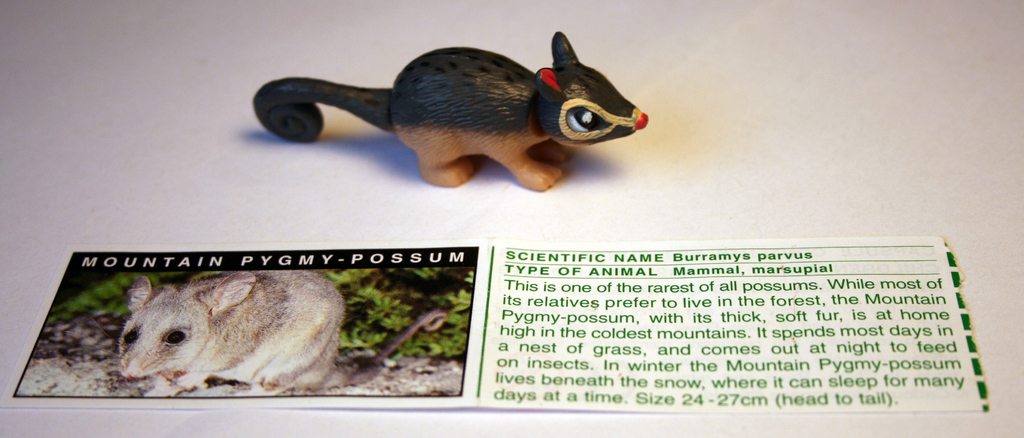Animal: (248, 28, 650, 188), (114, 271, 444, 391)
